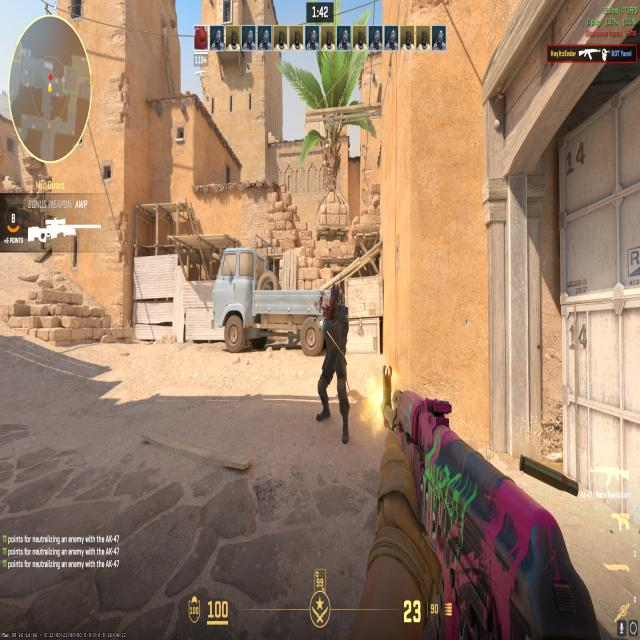ct: (309, 274, 356, 452)
